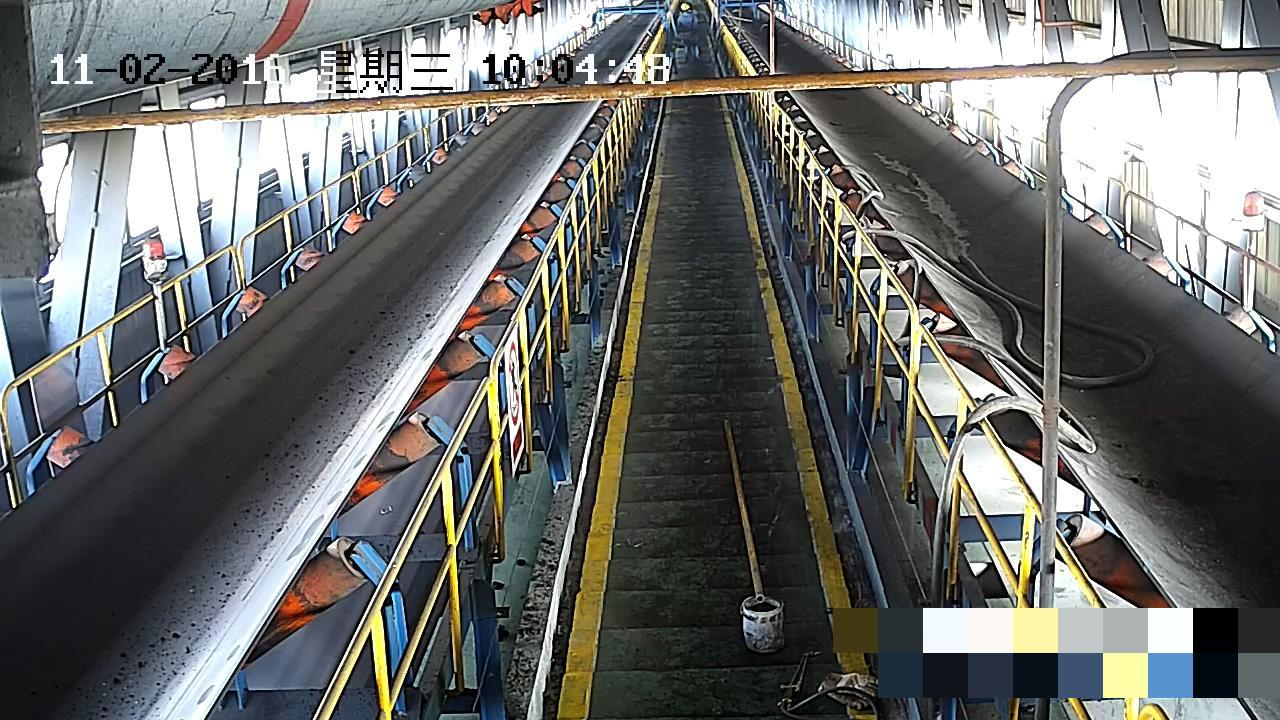hat: (680, 1, 691, 12)
person: (675, 1, 702, 62)
